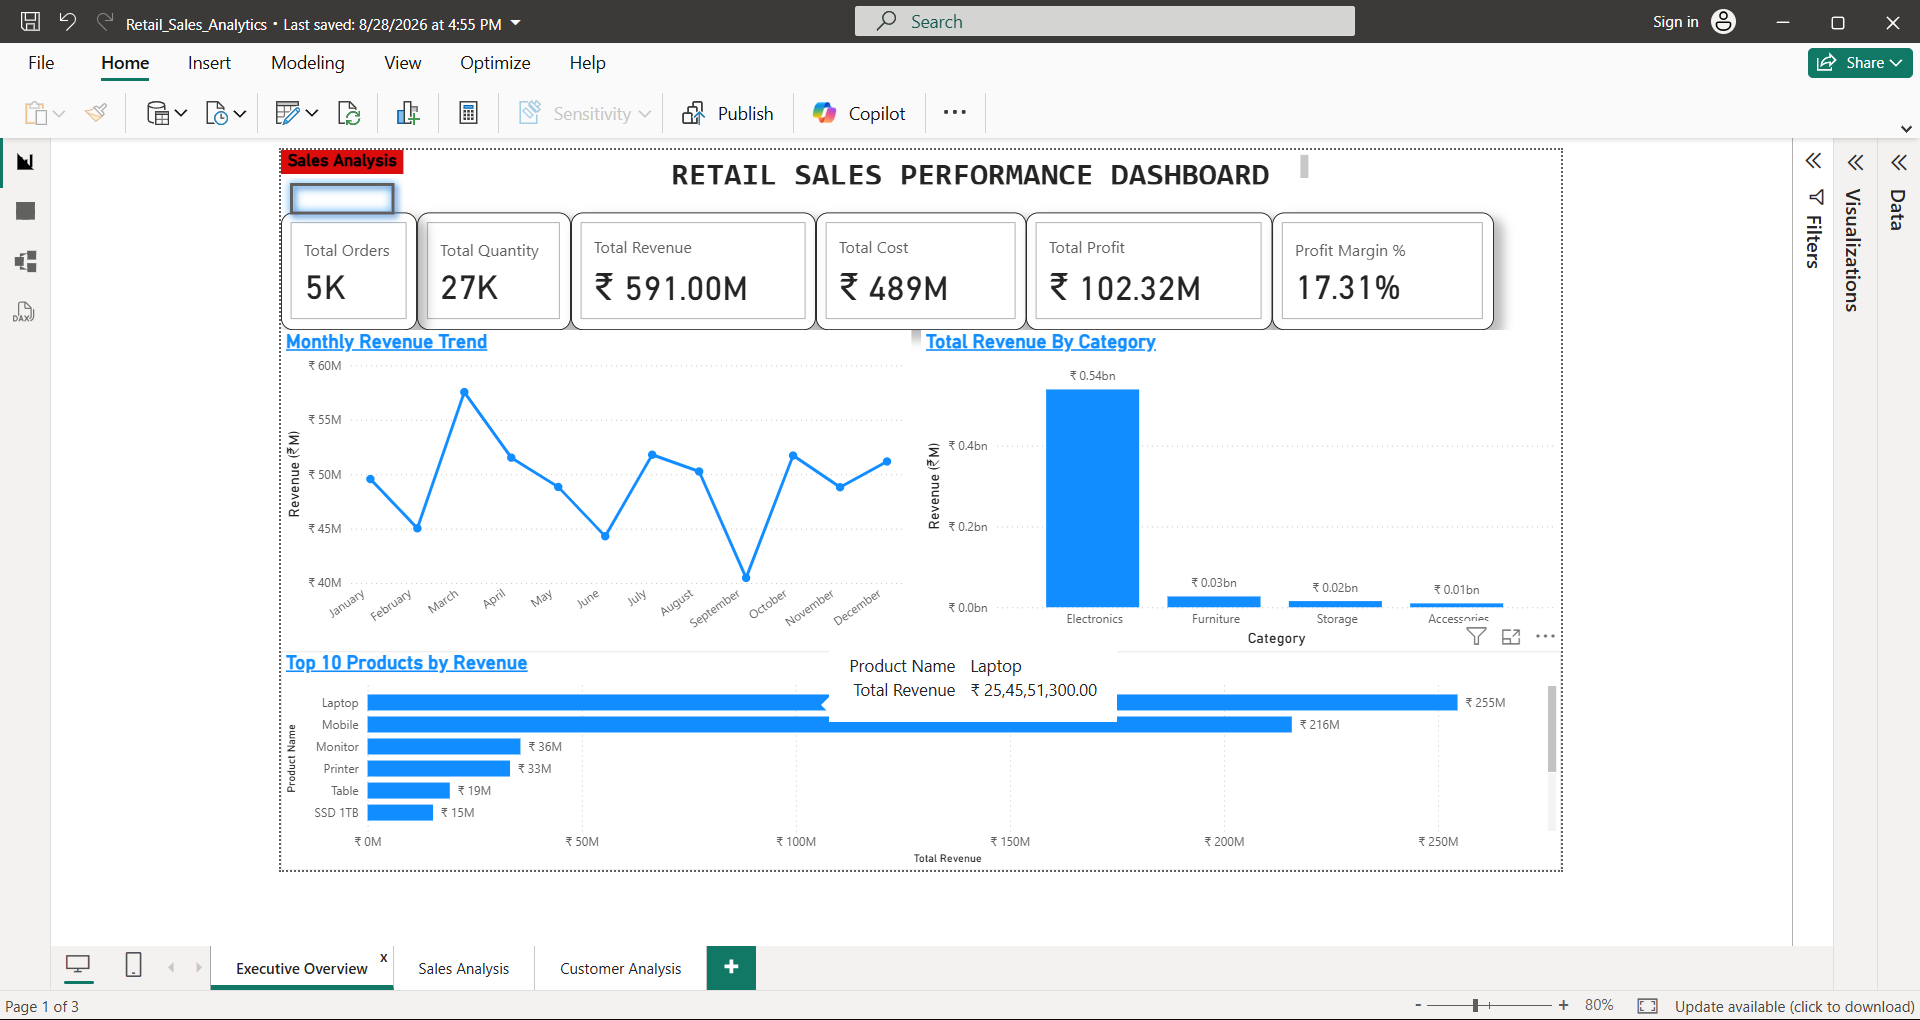

The dashboard page shown, as its layout file describes it:
{"tool":"powerbi","page":{"name":"Executive Overview","canvas":[1280,720],"ordinal":0},"visuals":[{"type":"cardVisual","fields":{"Data":["Sales.Total Quantity"]},"box":[136.2,62.5,153.8,117.5],"z":0},{"type":"cardVisual","fields":{"Data":["Sales.Total Orders"]},"box":[0,62.5,136.2,117.5],"z":1000},{"type":"cardVisual","fields":{"Data":["Sales.Total Revenue"]},"box":[290,62.5,245,117.5],"z":2000},{"type":"cardVisual","fields":{"Data":["Sales.Total Cost"]},"box":[535,62.5,210,117.5],"z":3000},{"type":"cardVisual","fields":{"Data":["Sales.Total Profit"]},"box":[745,62.5,246.2,117.5],"z":4000},{"type":"cardVisual","fields":{"Data":["Sales.Profit Margin %"]},"box":[991.2,62.5,221.2,117.5],"z":5000},{"type":"lineChart","title":"Monthly Revenue Trend","fields":{"Category":["Sales.Order Date.Variation.Date Hierarchy.Year","Sales.Order Date.Variation.Date Hierarchy.Quarter","Sales.Order Date.Variation.Date Hierarchy.Month","Sales.Order Date.Variation.Date Hierarchy.Day"],"Y":["Sales.Total Revenue"]},"box":[0,180,630,321.2],"z":6000},{"type":"clusteredColumnChart","title":"Total Revenue By Category","fields":{"Category":["Products.Category"],"Y":["Sales.Total Revenue"]},"box":[640,180,640,321.2],"z":7000},{"type":"barChart","title":"Top 10 Products by Revenue","fields":{"Category":["Products.Product Name"],"Y":["Sales.Total Revenue"]},"box":[0,501.2,1280,218.8],"z":8000},{"type":"textbox","box":[385.6,0,647.7,39.8],"z":9000},{"type":"actionButton","title":"Sales Analysis","box":[0,0,122.5,73.8],"z":10000}]}

Visuals, with their boxes on the page's 1280x720 design canvas (x1, y1, x2, y2). These are canvas units, not pixel positions in the 1920x1020 screenshot, which may show the page scaled, cropped or inside an application window:
cardVisual - Sales.Total Quantity: [136,62,290,180]
cardVisual - Sales.Total Orders: [0,62,136,180]
cardVisual - Sales.Total Revenue: [290,62,535,180]
cardVisual - Sales.Total Cost: [535,62,745,180]
cardVisual - Sales.Total Profit: [745,62,991,180]
cardVisual - Sales.Profit Margin %: [991,62,1212,180]
"Monthly Revenue Trend" lineChart: [0,180,630,501]
"Total Revenue By Category" clusteredColumnChart: [640,180,1280,501]
"Top 10 Products by Revenue" barChart: [0,501,1280,720]
textbox: [386,0,1033,40]
"Sales Analysis" actionButton: [0,0,122,74]
